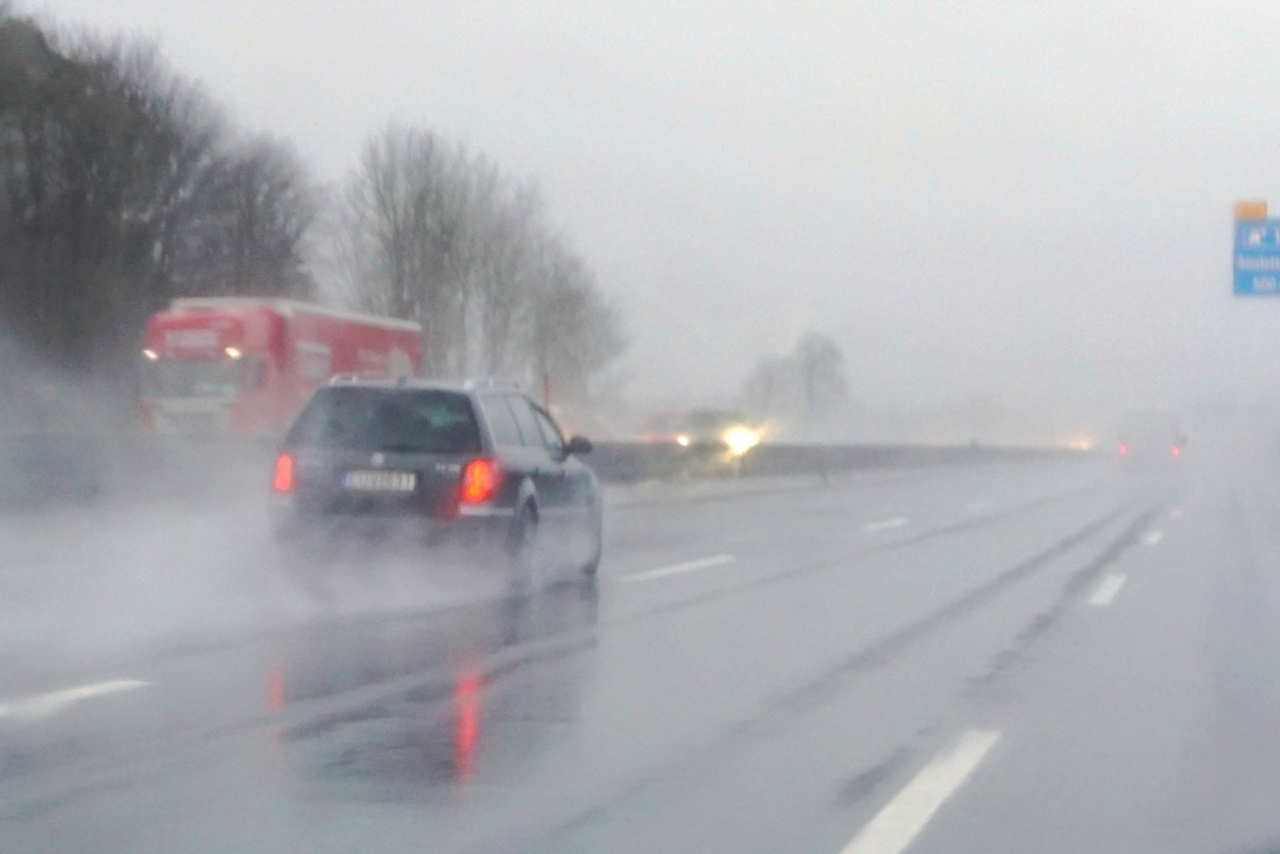car: (264, 381, 603, 594), (1114, 410, 1189, 474), (675, 402, 742, 449)
truck: (135, 294, 434, 450)
